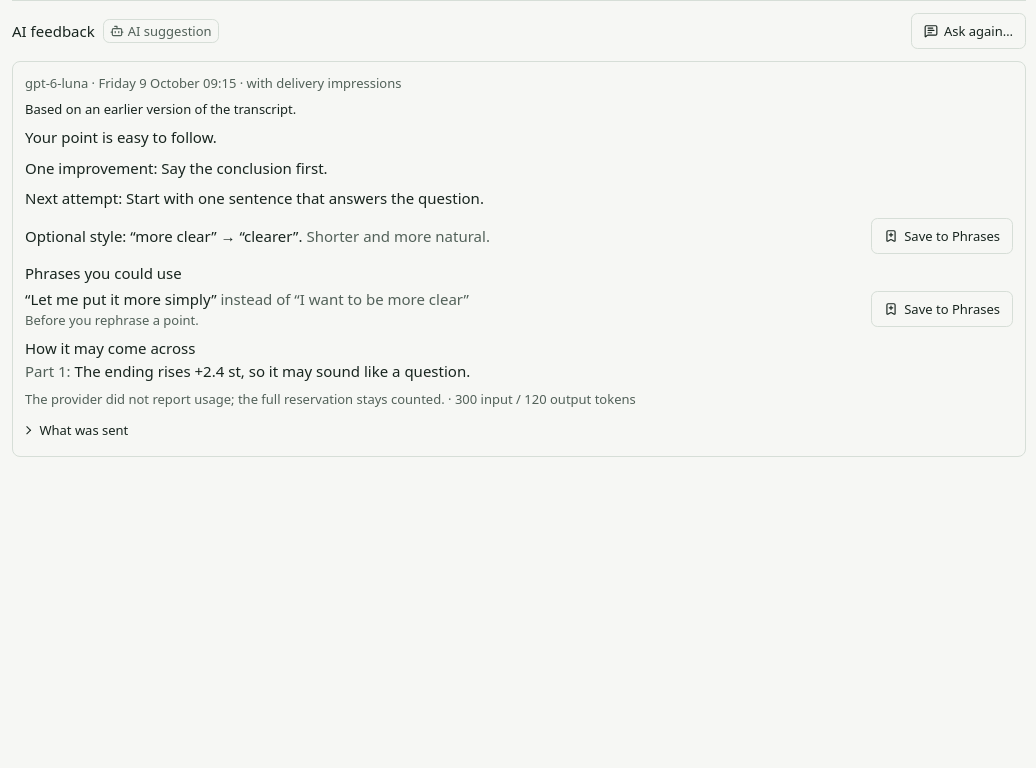
Test: says when feedback is from an earlier transcript and labels an identical request as asking again
Expected: the text "Based on an earlier version of the transcript." is shown, [25,100,296,118]
Click the button "Ask again…" at (968, 31), box [911,13,1026,49]
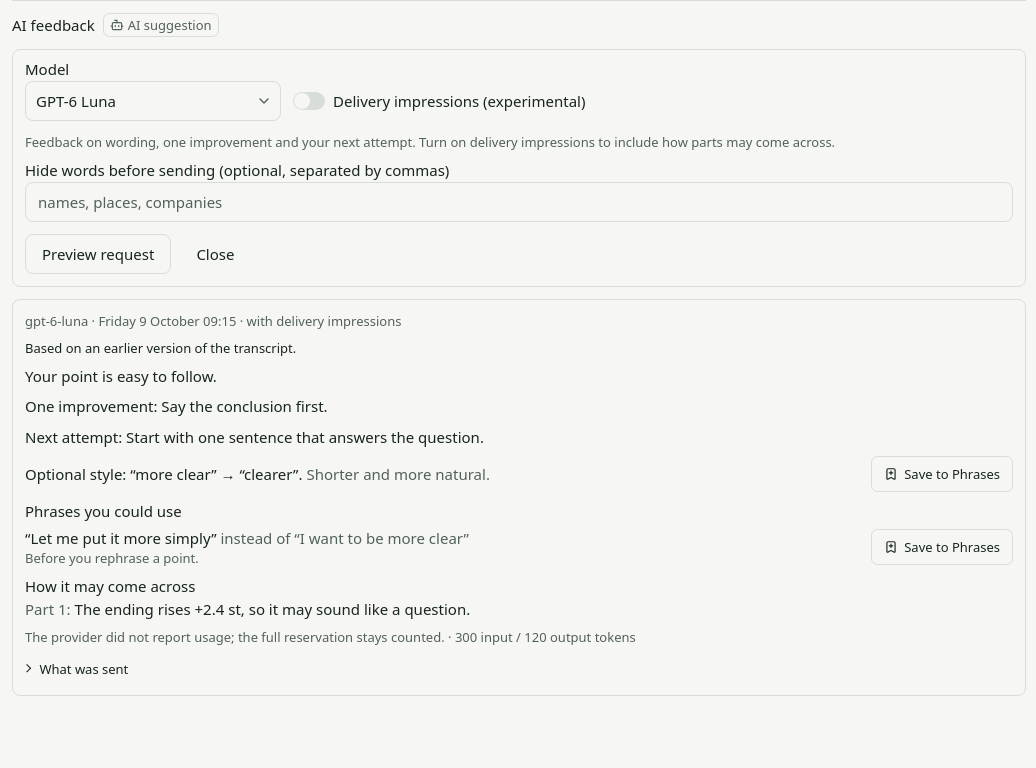
Click the button "Preview request" at (98, 254), box [25,234,171,274]
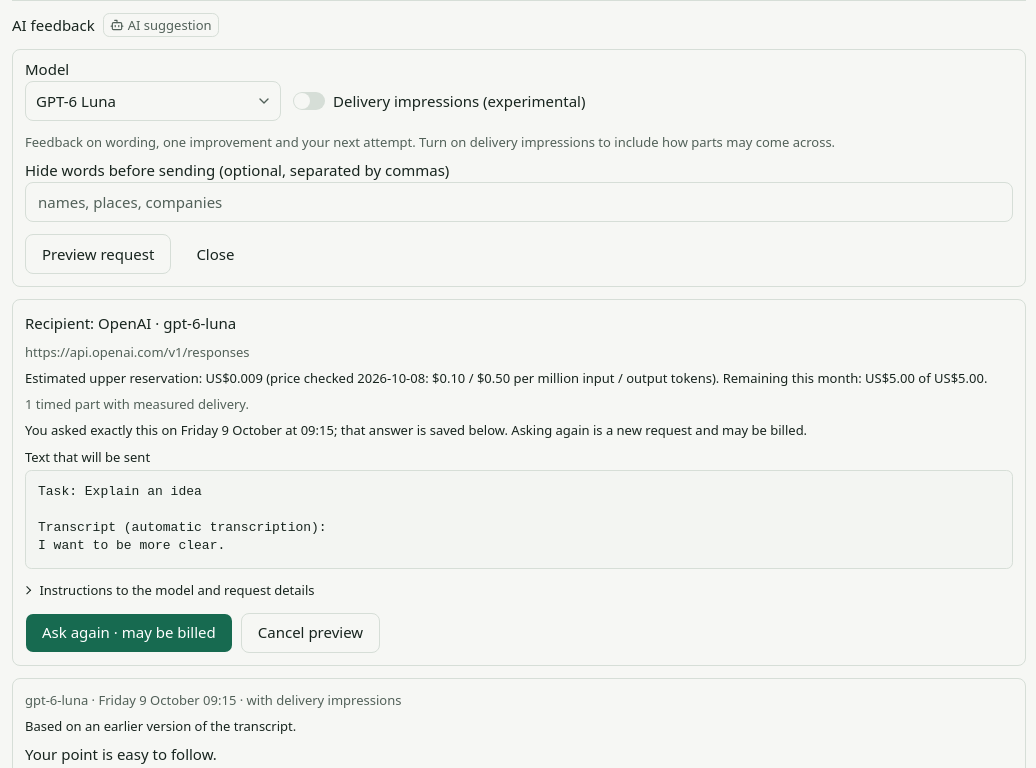
Expected: the text "You asked exactly this on" is shown, [25,421,181,439]
Expected: the button "Ask again · may be billed" is enabled, [25,613,233,653]
